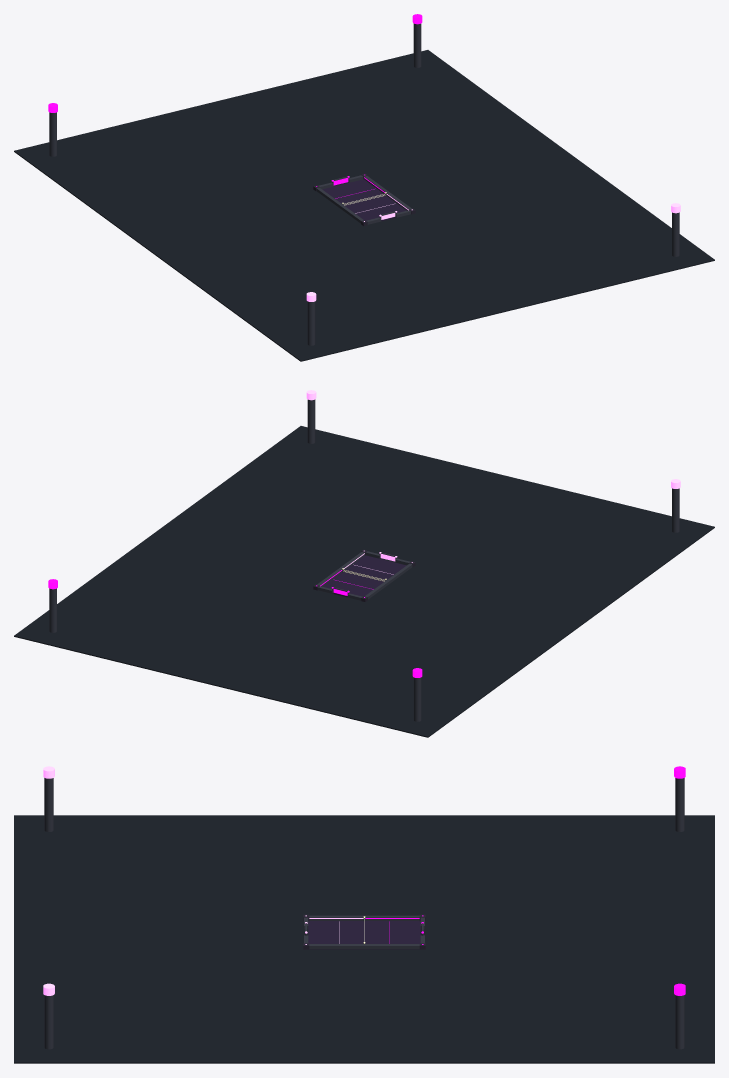
Rendered from mesa_gravity_volley.glb.
The picture shows the model from 3 angles, top to bottom: view 1: azimuth 30°, elevation 25°; view 2: azimuth 150°, elevation 25°; view 3: azimuth 270°, elevation 25°; orthographic projection. The views are drawn at different scales.
Visible parts, largest first — view 1: Cube.020, Volley_Surface; view 2: Cube.020, Volley_Surface; view 3: Cube.020, Volley_Surface, Volley_RailR, Volley_RailL, Cylinder.012, Cylinder.014, Cylinder.016, Cylinder.018.
Part boxes in pixels (box(x1,y1,x2,y2)): Cube.020: box(14, 50, 714, 361); Volley_Surface: box(322, 179, 406, 221); Cube.020: box(14, 426, 714, 737); Volley_Surface: box(322, 555, 406, 597); Cube.020: box(14, 815, 714, 1063); Volley_Surface: box(308, 921, 420, 949); Volley_RailR: box(309, 944, 419, 949); Volley_RailL: box(309, 915, 419, 920); Cylinder.012: box(44, 778, 53, 831); Cylinder.014: box(44, 995, 53, 1049); Cylinder.016: box(675, 778, 684, 831); Cylinder.018: box(675, 995, 684, 1049).
Size of the model in its own units: 10 by 1.18 by 12.
